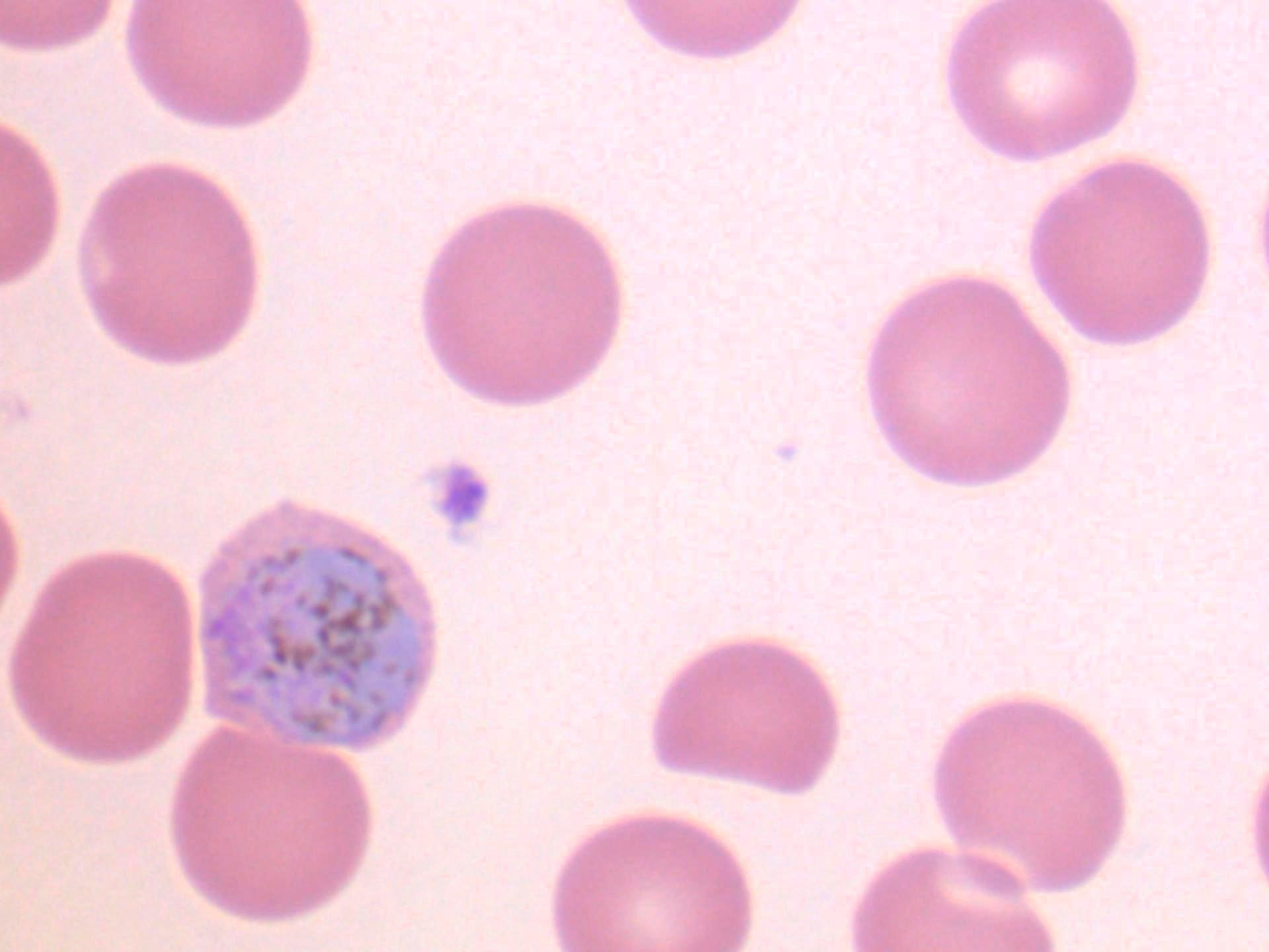Infected: (205, 505, 432, 752)
Uninfected: (425, 201, 624, 407), (170, 725, 372, 924), (872, 280, 1063, 482), (934, 699, 1127, 893), (15, 553, 192, 762), (84, 159, 257, 363), (1031, 159, 1207, 345), (947, 0, 1128, 162), (551, 811, 749, 952), (657, 646, 839, 796)
